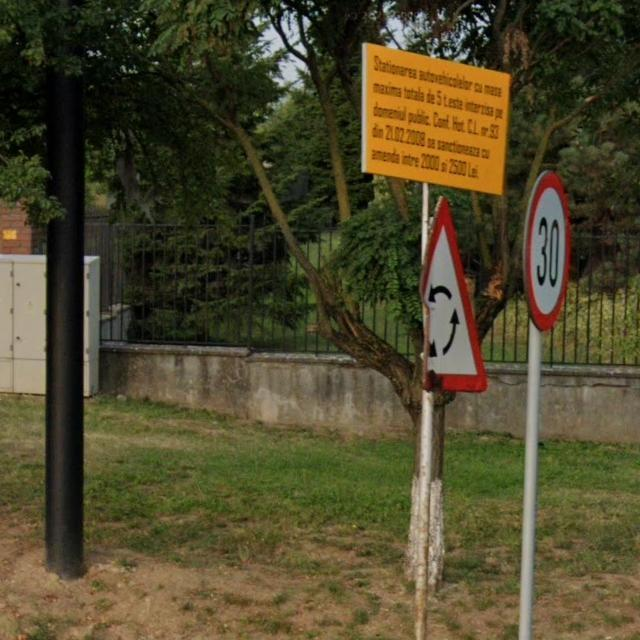forb_speed_over_30: (525, 171, 572, 330)
